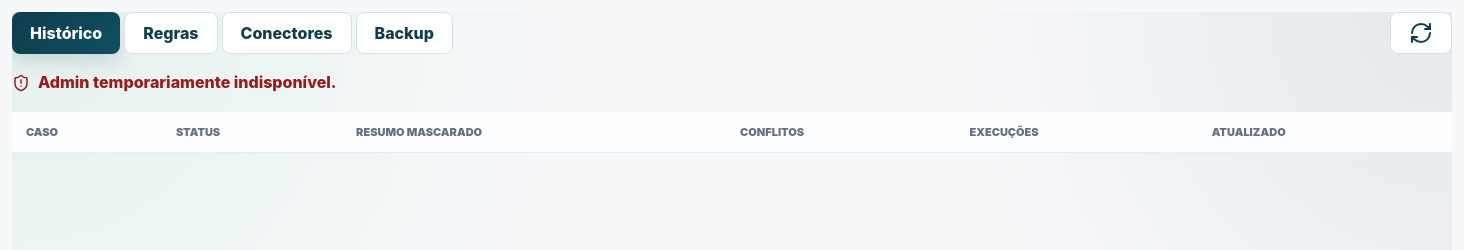
Test case: CaseFlowAdminView operational coverage › retries a failed load and exposes complete history and rule states
Expected: the message reads "Admin temporariamente indisponível.", [38, 72, 336, 92]
Click the button named "Atualizar dados". click: (1421, 33)
box: [1390, 12, 1452, 54]
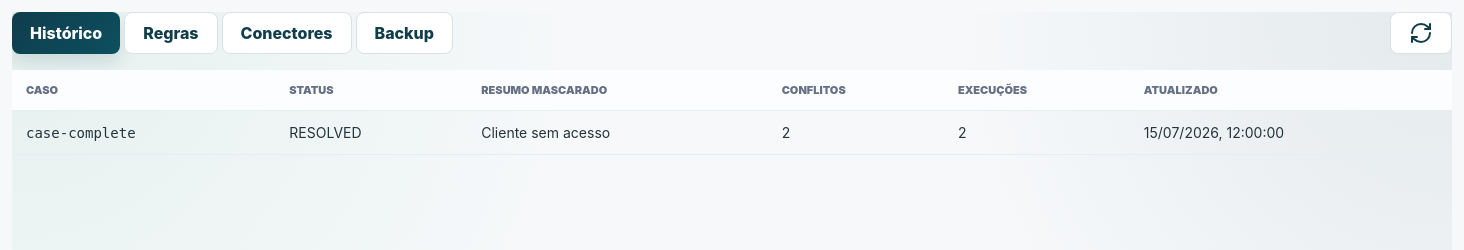
Now the table named "Histórico de casos" shows "Cliente sem acesso", box [481, 124, 610, 141]
Now the table named "Histórico de casos" shows "2", box [782, 124, 790, 141]
Now the message "Admin temporariamente indisponível." is gone
Click the tab "Regras". click: (171, 33)
box: [124, 12, 218, 54]
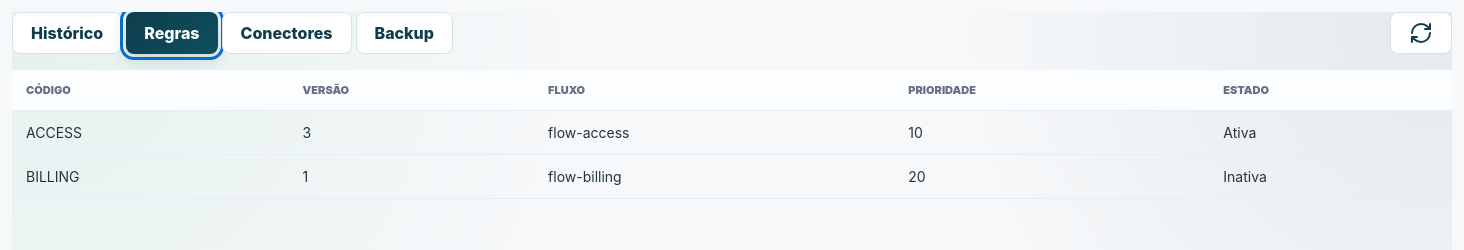
Now the table named "Regras CaseFlow" shows "ACCESS", box [26, 124, 82, 141]
Now the table named "Regras CaseFlow" shows "Ativa", box [1223, 124, 1256, 141]
Now the table named "Regras CaseFlow" shows "Inativa", box [1223, 168, 1267, 185]
